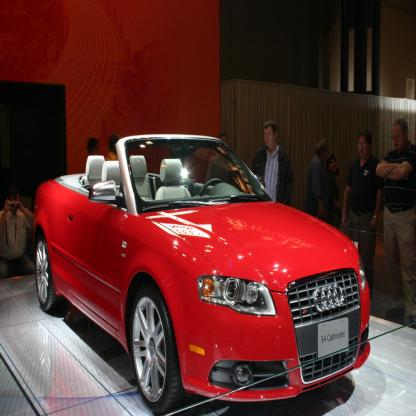Car: (34, 136, 372, 416)
